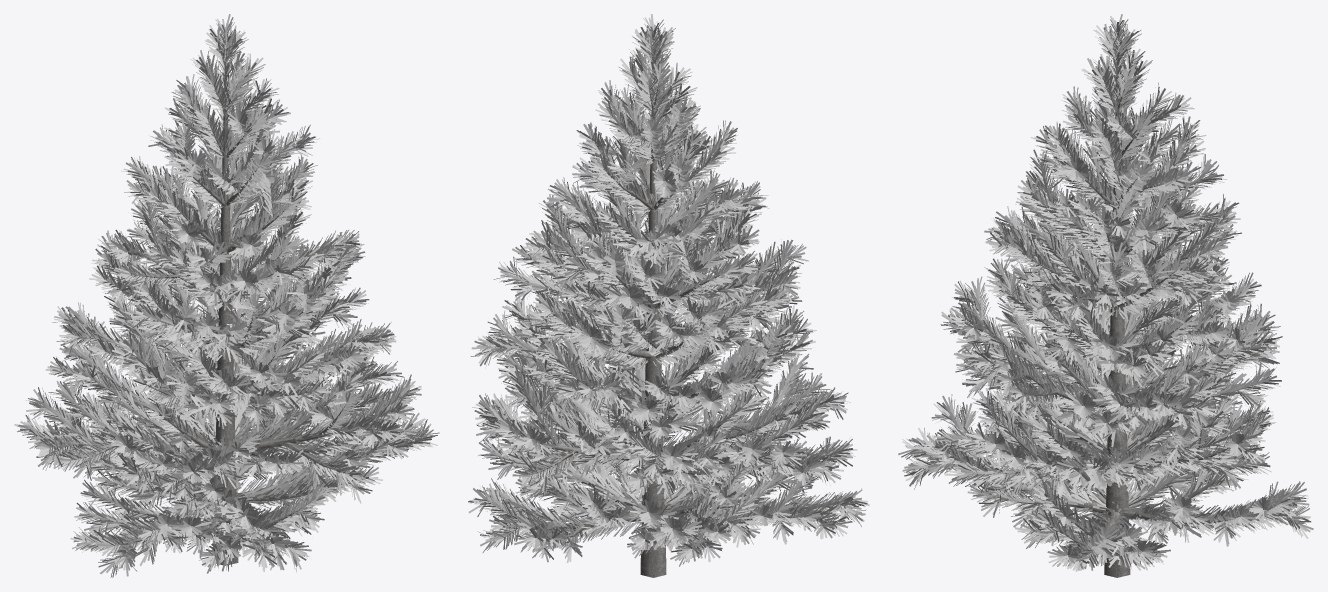
Rendered from fir_5_01.fbx.
3 renders of one model, left to right at view 1: azimuth 30°, elevation 25°; view 2: azimuth 150°, elevation 25°; view 3: azimuth 270°, elevation 25°, orthographic. The views are drawn at different scales.
Parts seen in each view (by area): view 1: fir_5_01_fir_01, fir_5_01_fir_03, fir_5_01_bark_01; view 2: fir_5_01_fir_01, fir_5_01_fir_03, fir_5_01_bark_01; view 3: fir_5_01_fir_01, fir_5_01_fir_03, fir_5_01_bark_01.
Boxes of the visible parts, x1=… form: fir_5_01_fir_01: x1=16, y1=14, x2=437, y2=577; fir_5_01_fir_03: x1=14, y1=19, x2=439, y2=576; fir_5_01_bark_01: x1=59, y1=39, x2=406, y2=565; fir_5_01_fir_01: x1=468, y1=17, x2=869, y2=562; fir_5_01_fir_03: x1=470, y1=14, x2=867, y2=566; fir_5_01_bark_01: x1=492, y1=41, x2=829, y2=577; fir_5_01_fir_01: x1=901, y1=14, x2=1313, y2=570; fir_5_01_fir_03: x1=898, y1=16, x2=1311, y2=571; fir_5_01_bark_01: x1=949, y1=49, x2=1286, y2=577.
Size of the model in its own units: 150 by 205 by 139.
Materials: 3 (1 with a texture image).
